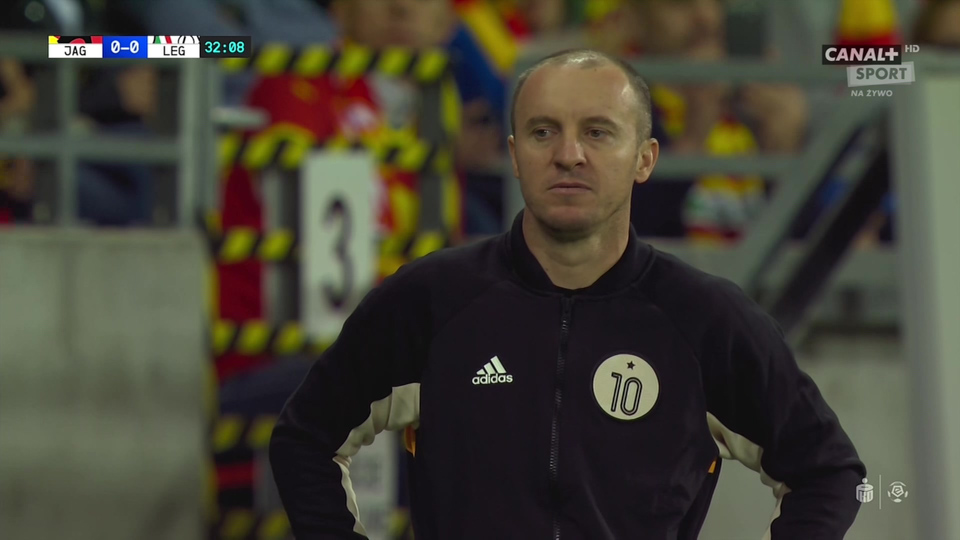Adidas: (470, 354, 515, 386)
